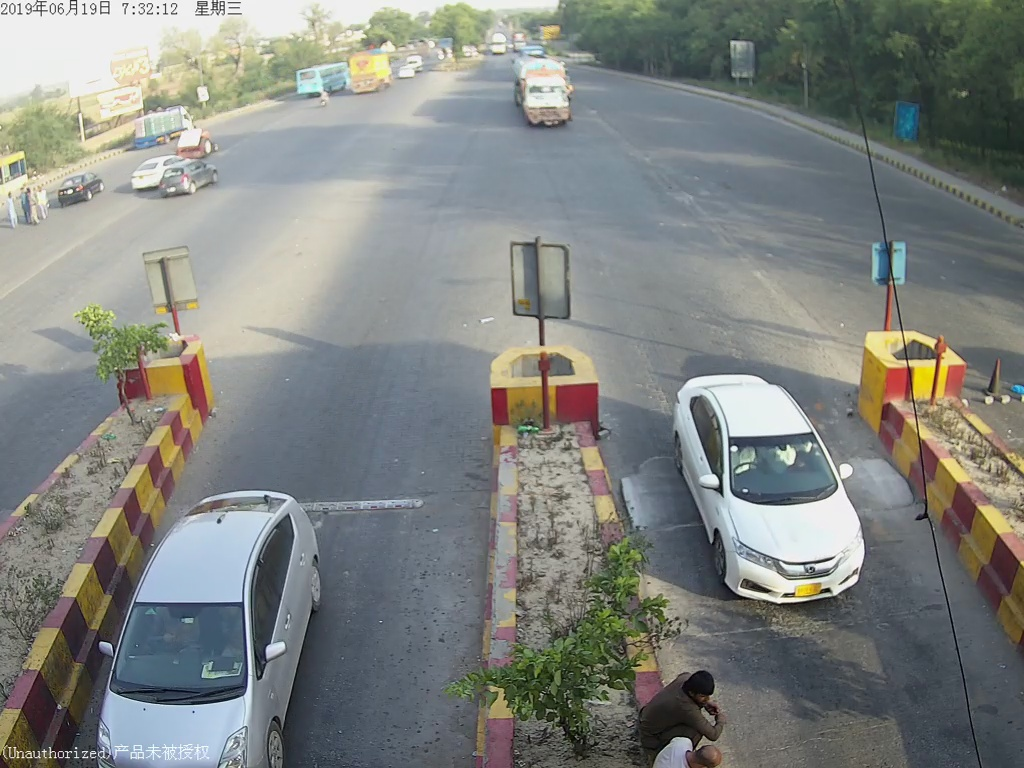Cat-1: (661, 354, 876, 602)
